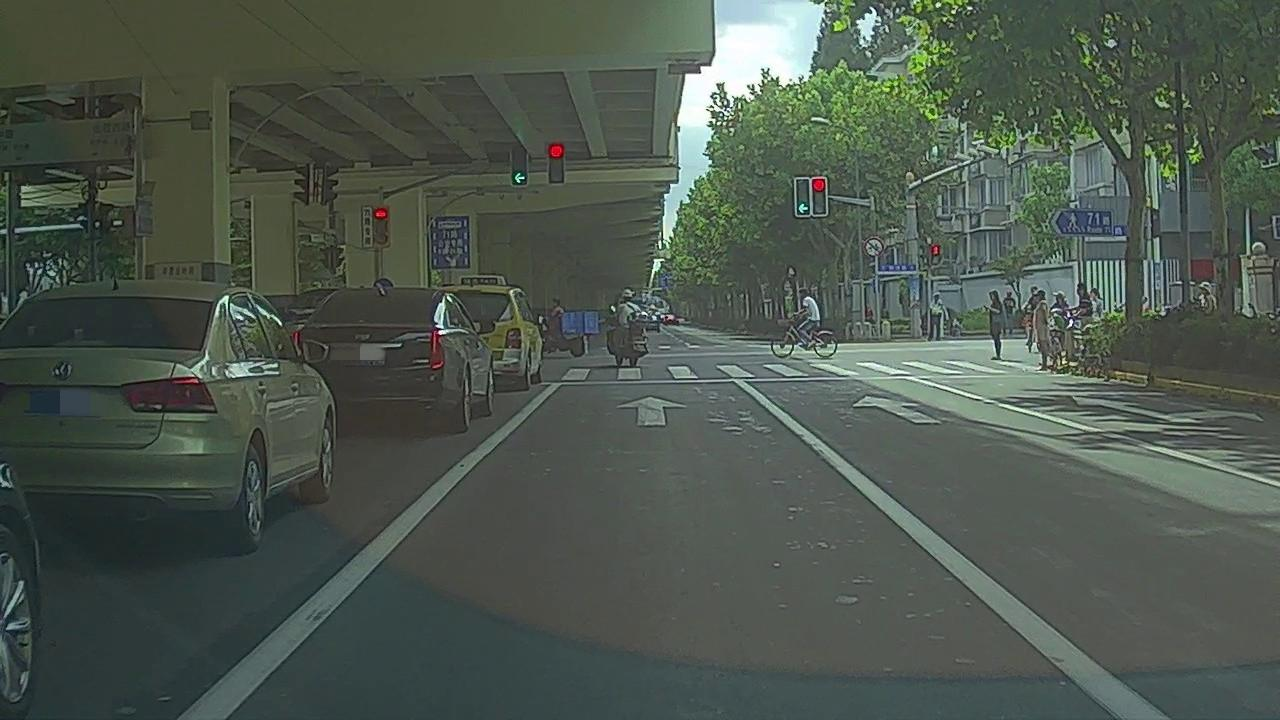traffic_light: (511, 149, 528, 186), (550, 142, 564, 185), (797, 178, 811, 217), (812, 178, 826, 215)
